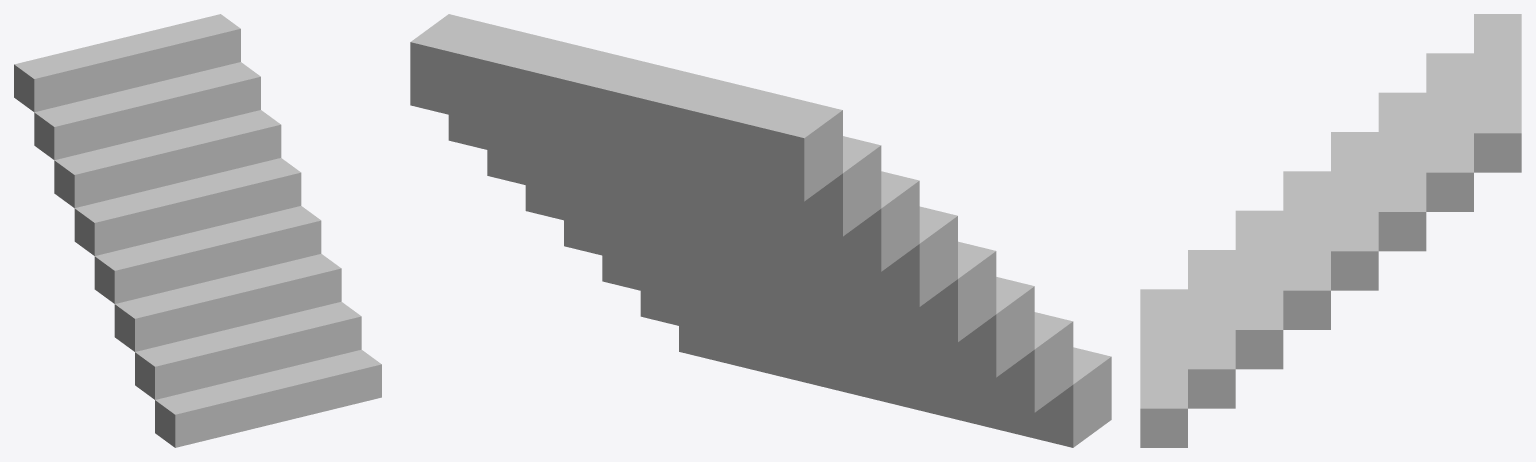
Rendered from Escada.fbx.
3 renders of one model, left to right at view 1: azimuth 30°, elevation 25°; view 2: azimuth 150°, elevation 25°; view 3: azimuth 270°, elevation 25°, orthographic. The views are drawn at different scales.
Visible parts, largest first — view 1: Escada; view 2: Escada; view 3: Escada.
Boxes of the visible parts, <box> form: Escada: <box>14,14,381,447</box>; Escada: <box>410,14,1111,447</box>; Escada: <box>1140,14,1521,447</box>.
Bounding box in the file's own units: 350 × 430 × 473.
